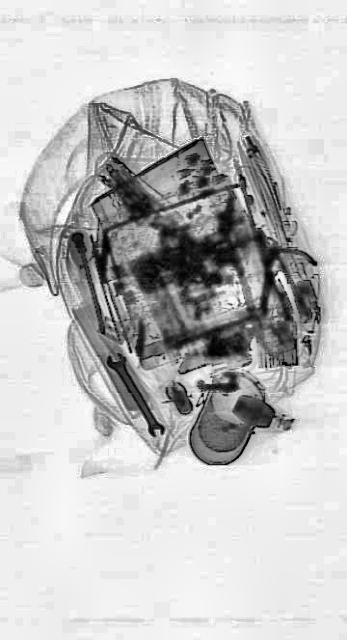Wrench: (104, 340, 164, 446)
